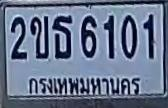0: (121, 14, 136, 58)
1: (143, 14, 153, 58), (103, 15, 113, 58)
2: (10, 16, 26, 58)
6: (80, 15, 96, 57)
A02: (30, 15, 48, 58)
A24: (52, 15, 72, 58)
BKK: (22, 72, 146, 99)
